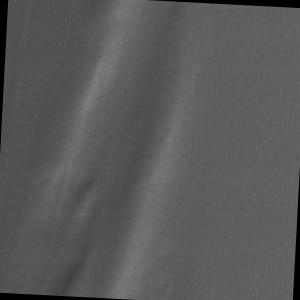Wrinkle: (1, 1, 214, 300)
